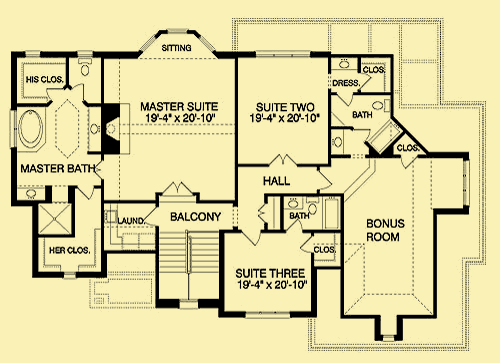door: (159, 180, 196, 197), (267, 154, 296, 168), (240, 227, 261, 245), (335, 92, 354, 109), (73, 184, 94, 199), (399, 153, 417, 168), (257, 202, 268, 224)
large_sink: (75, 57, 93, 78), (370, 96, 389, 114), (305, 195, 319, 216)
small_sink: (86, 107, 102, 153), (327, 127, 344, 154), (15, 186, 47, 200), (331, 56, 358, 71), (283, 195, 305, 210)
stairs: (156, 225, 218, 301)
tub: (16, 106, 47, 155), (321, 196, 342, 231)
windows: (254, 48, 311, 60), (243, 309, 291, 321), (461, 158, 471, 206), (163, 25, 190, 37)
